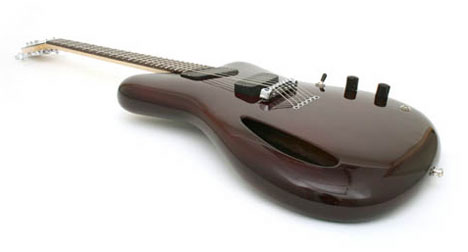guitar: (16, 36, 440, 227)
